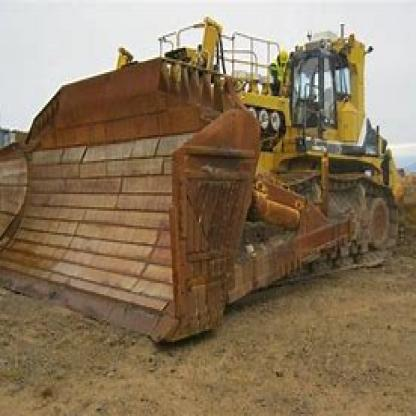bull_dozer/loader/grader: (5, 0, 414, 342)
